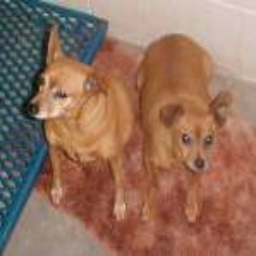dog: (27, 22, 225, 228)
